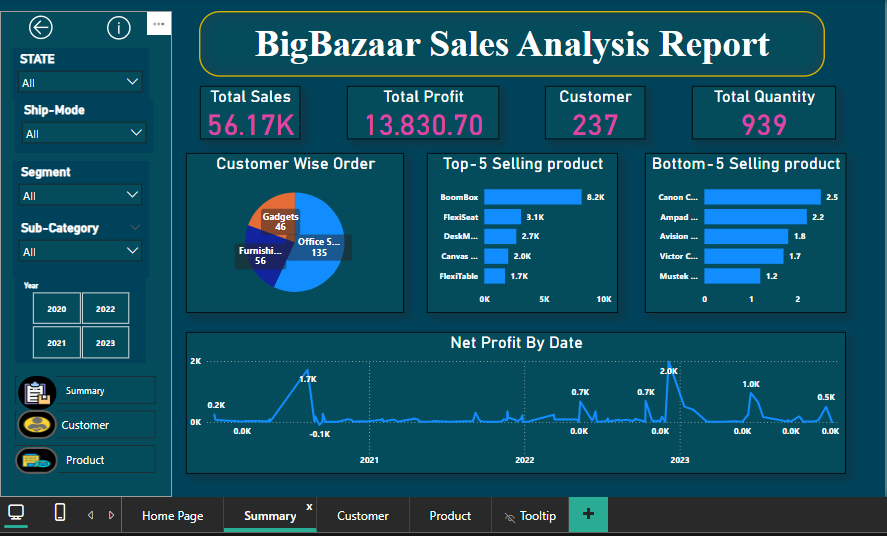

Layout of this report page (visuals, bound fields, positions):
{"tool":"powerbi","page":{"name":"Summary","canvas":[1280,720],"ordinal":1},"visuals":[{"type":"textbox","box":[287.7,17.3,905.1,95.4],"z":0},{"type":"textbox","box":[0,17.9,248.5,702.6],"z":1000},{"type":"slicer","fields":{"Values":["Source_filedata.State"]},"box":[15.9,70.8,199.5,73.7],"z":2000},{"type":"slicer","fields":{"Values":["Source_filedata.Ship Mode"]},"box":[21.7,144.6,199.5,78.1],"z":3000},{"type":"slicer","fields":{"Values":["Source_filedata.Segment"]},"box":[17.3,234.2,198.1,81],"z":4000},{"type":"slicer","fields":{"Values":["Source_filedata.Sub-Category"]},"box":[17.9,314.6,198.4,87.6],"z":5000},{"type":"slicer","fields":{"Values":["Source_filedata.Year"]},"box":[21.7,403.4,189.4,122.9],"z":6000},{"type":"pageNavigator","box":[21.7,545.1,203.9,141.7],"z":7000},{"type":"actionButton","box":[24.6,594.2,57.8,41.9],"z":8000},{"type":"actionButton","box":[21.7,647.7,62.2,39],"z":9000},{"type":"actionButton","box":[26,545.1,56.4,49.2],"z":10000},{"type":"card","title":"Total Sales","fields":{"Values":["Sum(Source_filedata.Sales)"]},"box":[289.2,125.8,144.6,76.6],"z":11000},{"type":"card","title":"Total Profit","fields":{"Values":["Sum(Source_filedata.Profit)"]},"box":[501.2,125.8,219.8,76.6],"z":12000},{"type":"card","title":"Total Quantity","fields":{"Values":["Sum(Source_filedata.Quantity)"]},"box":[1000.5,125.8,208.2,76.6],"z":13000},{"type":"card","title":"Customer","fields":{"Values":["CountNonNull(Source_filedata.Customer Name)"]},"box":[788.4,125.8,144.6,76.6],"z":14000},{"type":"clusteredBarChart","title":"Top-5 Selling product","fields":{"Category":["Source_filedata.Product Name"],"Y":["Sum(Source_filedata.Sales)"]},"box":[617.3,222.7,276.1,231.3],"z":15000},{"type":"pieChart","title":"Customer Wise Order","fields":{"Category":["Source_filedata.Category"],"Y":["CountNonNull(Source_filedata.Order ID)"]},"box":[268.9,222.7,315.2,231.3],"z":16000},{"type":"clusteredBarChart","title":"Bottom-5 Selling product","fields":{"Category":["Source_filedata.Product Name"],"Y":["Sum(Source_filedata.Sales)"]},"box":[932.5,222.7,290.6,231.3],"z":17000},{"type":"lineChart","title":"Net Profit By Date","fields":{"Category":["Source_filedata.Order Date.Variation.Date Hierarchy.Year","Source_filedata.Order Date.Variation.Date Hierarchy.Quarter","Source_filedata.Order Date.Variation.Date Hierarchy.Month","Source_filedata.Order Date.Variation.Date Hierarchy.Day"],"Y":["Sum(Source_filedata.Profit)"]},"box":[268.9,481.4,954.2,205.3],"z":18000},{"type":"actionButton","box":[26,0,65.1,82.4],"z":19000},{"type":"actionButton","box":[138.8,8.7,72.3,65.1],"z":20000}]}

Visuals, with their boxes on the page's 1280x720 design canvas (x1, y1, x2, y2). These are canvas units, not pixel positions in the 887x536 screenshot, which may show the page scaled, cropped or inside an application window:
textbox: 288/17/1193/113
textbox: 0/18/248/720
slicer - Source_filedata.State: 16/71/215/144
slicer - Source_filedata.Ship Mode: 22/145/221/223
slicer - Source_filedata.Segment: 17/234/215/315
slicer - Source_filedata.Sub-Category: 18/315/216/402
slicer - Source_filedata.Year: 22/403/211/526
pageNavigator: 22/545/226/687
actionButton: 25/594/82/636
actionButton: 22/648/84/687
actionButton: 26/545/82/594
"Total Sales" card: 289/126/434/202
"Total Profit" card: 501/126/721/202
"Total Quantity" card: 1000/126/1209/202
"Customer" card: 788/126/933/202
"Top-5 Selling product" clusteredBarChart: 617/223/893/454
"Customer Wise Order" pieChart: 269/223/584/454
"Bottom-5 Selling product" clusteredBarChart: 932/223/1223/454
"Net Profit By Date" lineChart: 269/481/1223/687
actionButton: 26/0/91/82
actionButton: 139/9/211/74
